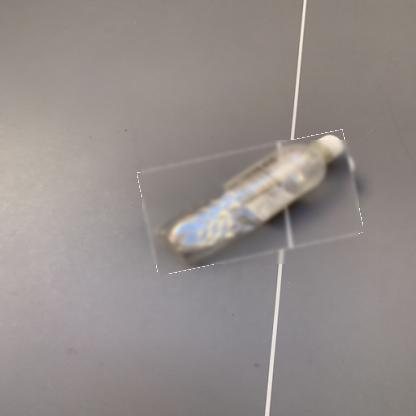plastic-bottles: (143, 141, 361, 266)
